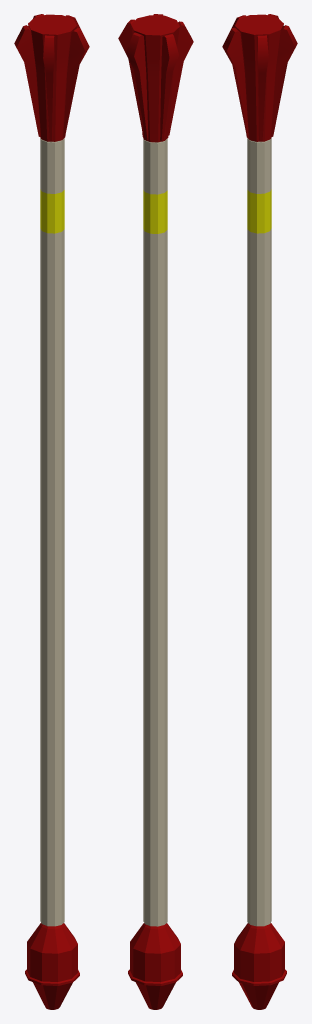
File: tuho_spear_red.fbx
3 renders of one model, left to right at view 1: azimuth 30°, elevation 25°; view 2: azimuth 210°, elevation 25°; view 3: azimuth 330°, elevation 25°, orthographic.
Parts seen in each view (by area): view 1: spear_red; view 2: spear_red; view 3: spear_red.
Part boxes in pixels (x1,y1,x2,y2): spear_red: (14,14,89,1009); spear_red: (118,14,193,1009); spear_red: (222,14,297,1009).
Size of the model in its own units: 0.697 by 9.95 by 0.6629.
